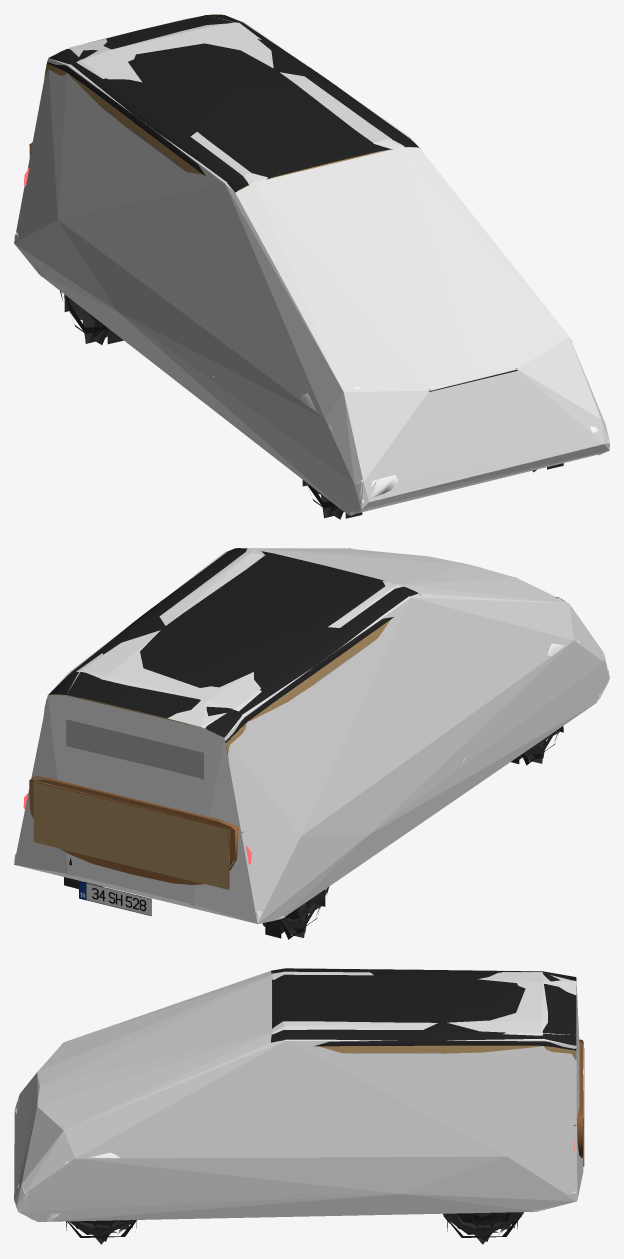
The model's file is bosfor_sahil_lod2.glb.
3 views of the same model, one above another, from view 1: azimuth 30°, elevation 25°; view 2: azimuth 150°, elevation 25°; view 3: azimuth 270°, elevation 25° (orthographic). The views are drawn at different scales.
Visible parts, largest first — view 1: col_body, trim, interior, wheel_RR, body; view 2: col_body, trim, interior, glass, plate_rear, wheel_RR, wheel_FR; view 3: col_body, trim, interior, wheel_RL, wheel_FL.
Boxes of the visible parts, x1,y1,x2,y2 form: col_body: (14,16,609,515); trim: (47,15,517,391); interior: (29,14,421,195); wheel_RR: (60,291,123,344); body: (14,232,609,515); col_body: (14,548,609,923); trim: (48,548,516,742); interior: (29,548,420,889); glass: (66,645,368,779); plate_rear: (79,881,151,916); wheel_RR: (262,886,329,939); wheel_FR: (511,726,563,765); col_body: (14,968,583,1221); trim: (37,968,576,1072); interior: (271,971,584,1166); wheel_RL: (443,1212,523,1244); wheel_FL: (66,1220,136,1244).
Size of the model in its own units: 1.8 by 1.73 by 4.61.
9 materials, 1 textured.
